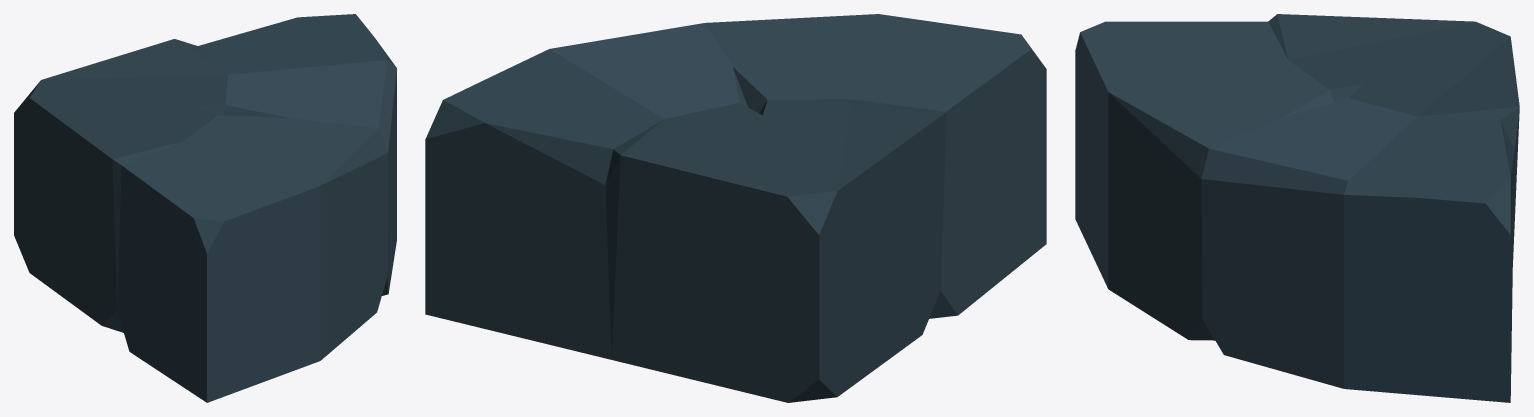
File: level_element_round_corner_1x2x2_conv.fbx
3 renders of one model, left to right at view 1: azimuth 30°, elevation 25°; view 2: azimuth 150°, elevation 25°; view 3: azimuth 270°, elevation 25°, orthographic. The views are drawn at different scales.
Parts seen in each view (by area): view 1: level_element_round_corner_1x2x2_conv; view 2: level_element_round_corner_1x2x2_conv; view 3: level_element_round_corner_1x2x2_conv.
Part boxes in pixels (x1=…): level_element_round_corner_1x2x2_conv: x1=14, y1=14, x2=396, y2=402; level_element_round_corner_1x2x2_conv: x1=425, y1=14, x2=1046, y2=402; level_element_round_corner_1x2x2_conv: x1=1075, y1=14, x2=1519, y2=402.
Size of the model in its own units: 203 by 107 by 204.
